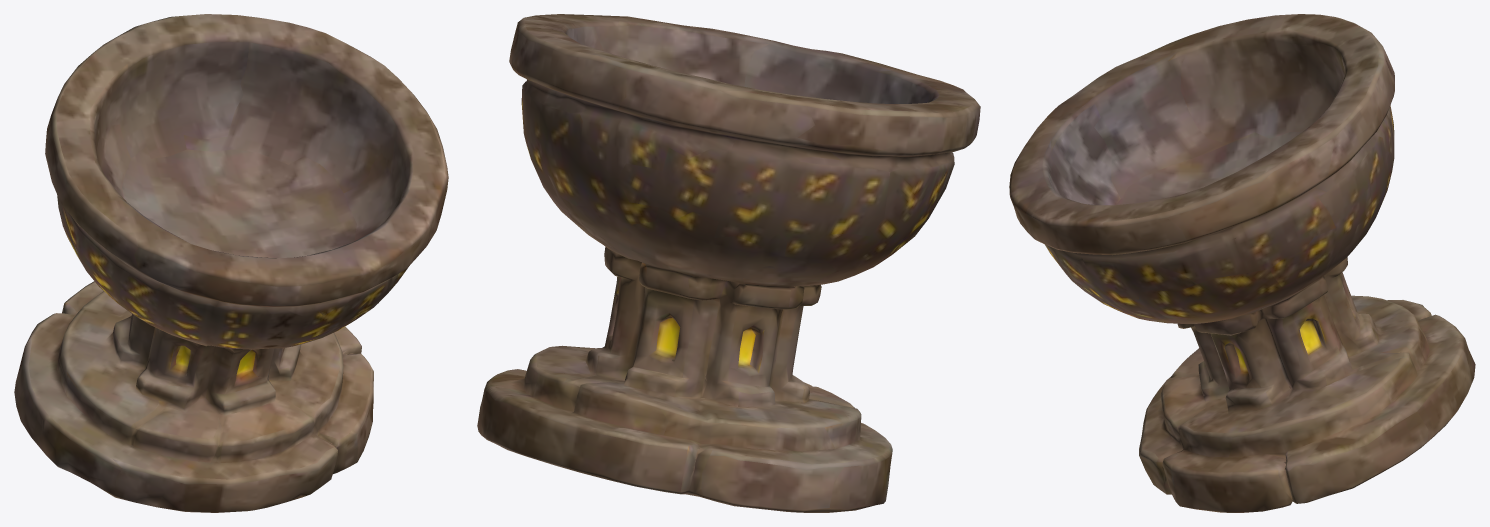
File: brazier.glb
3 renders of one model, left to right at view 1: azimuth 30°, elevation 25°; view 2: azimuth 150°, elevation 25°; view 3: azimuth 270°, elevation 25°, orthographic. The views are drawn at different scales.
Bounding box in the file's own units: 0.8294 × 0.9067 × 0.932.
Materials: 1 (1 with a texture image).
